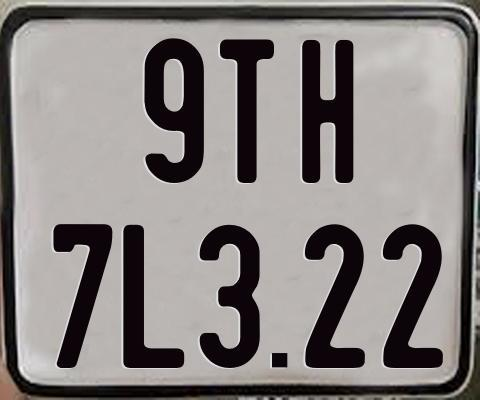2: (382, 221, 443, 371), (304, 223, 364, 371)
3: (198, 223, 258, 366)
7: (53, 222, 114, 371)
9: (142, 37, 206, 185)
H: (301, 38, 354, 184)
L: (123, 224, 186, 373)
T: (219, 36, 273, 184)
